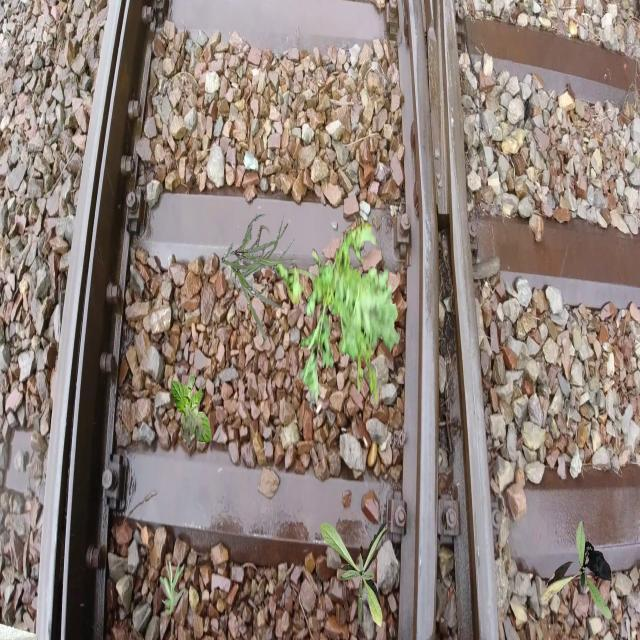Plant: (276, 214, 401, 410), (222, 214, 295, 338), (320, 520, 392, 628), (540, 520, 612, 620), (171, 374, 212, 445), (159, 559, 186, 616), (180, 404, 206, 446)
